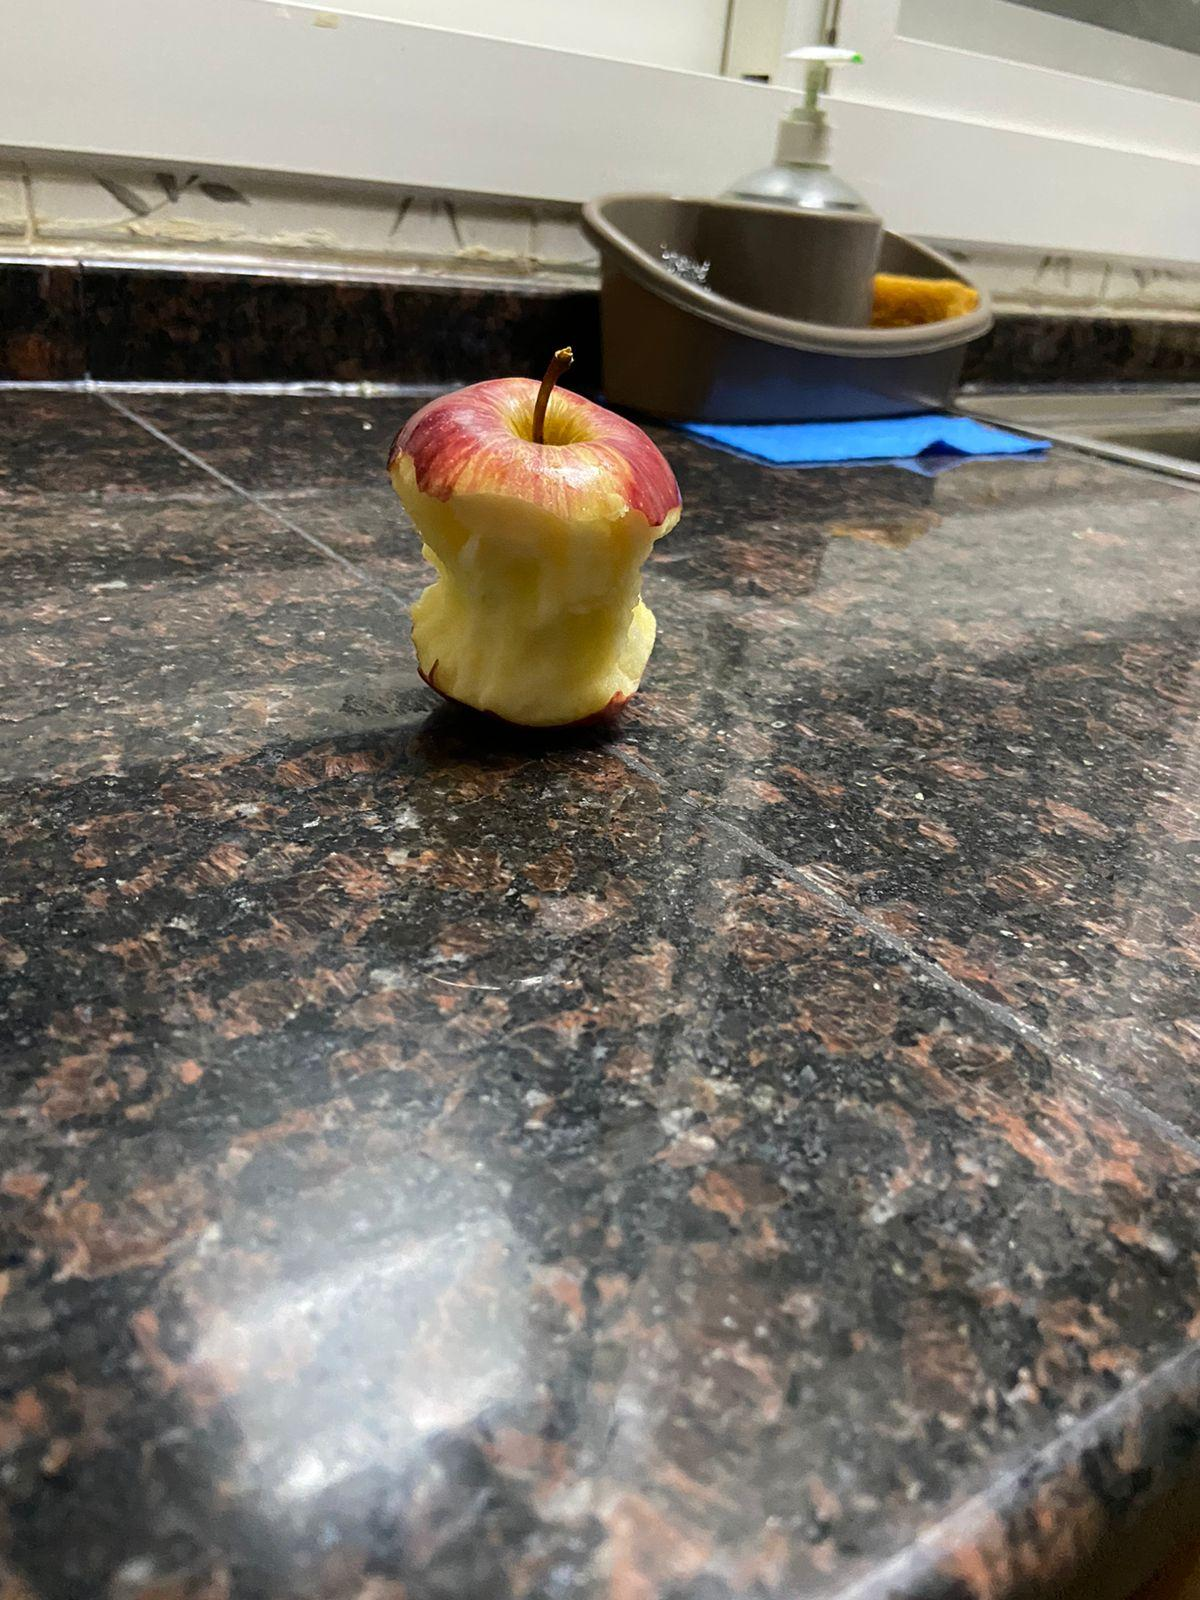Apple: (387, 351, 676, 727)
